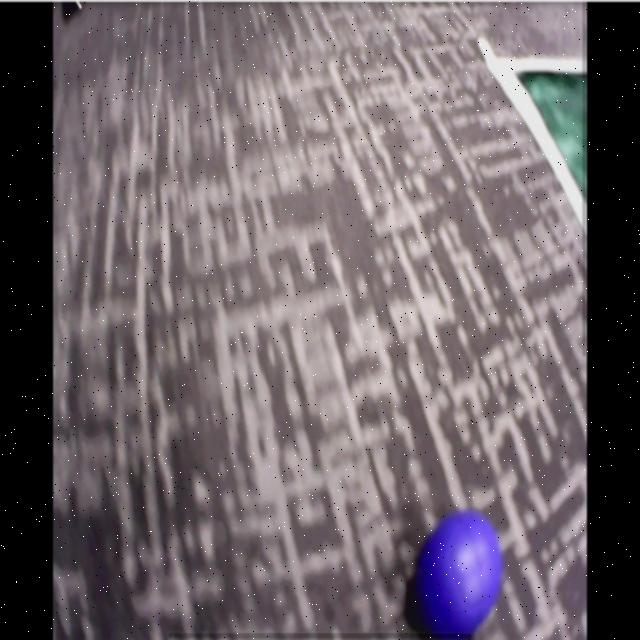ball: (421, 514, 502, 636)
